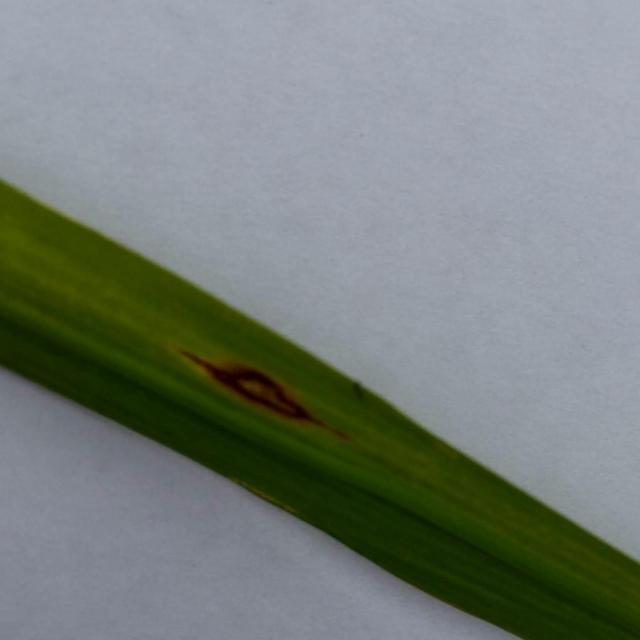Rice_Blast: (164, 286, 363, 461)
